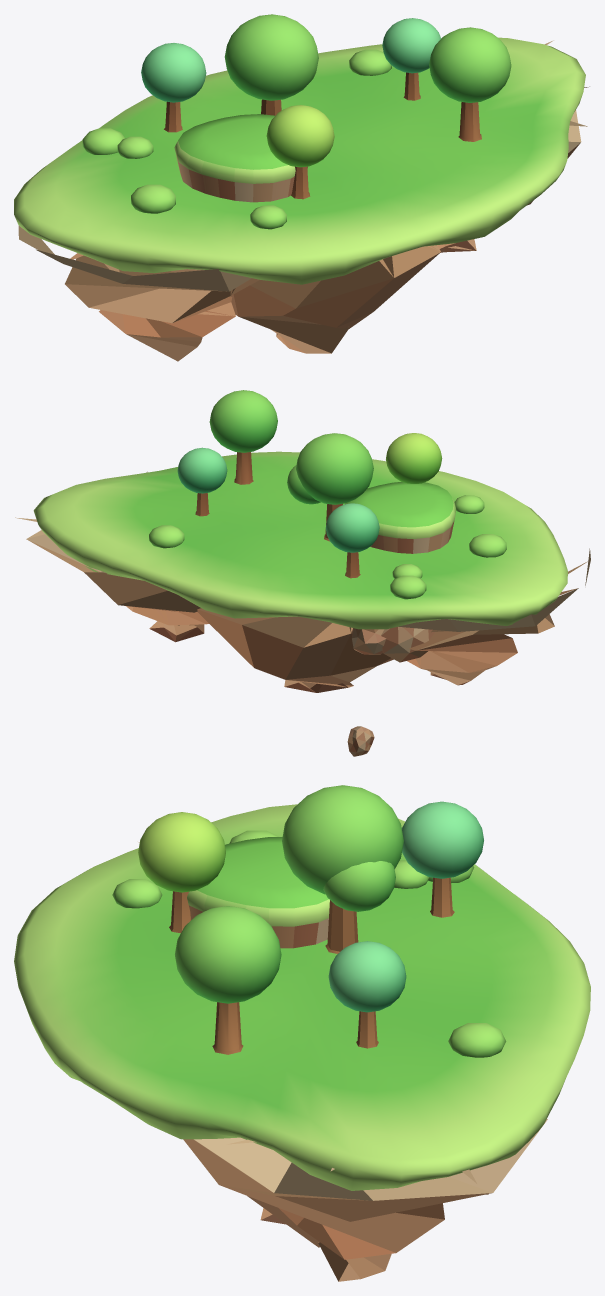
File: island_b.glb
The picture shows the model from 3 angles, top to bottom: view 1: azimuth 30°, elevation 25°; view 2: azimuth 150°, elevation 25°; view 3: azimuth 270°, elevation 25°; orthographic projection. The views are drawn at different scales.
Parts seen in each view (by area): view 1: Island; view 2: Island; view 3: Island.
Part boxes in pixels (box(x1,y1,x2,y2)): Island: box(14, 14, 589, 361); Island: box(15, 390, 590, 756); Island: box(14, 785, 590, 1281).
Bounding box in the file's own units: 40.68 × 21.18 × 26.
